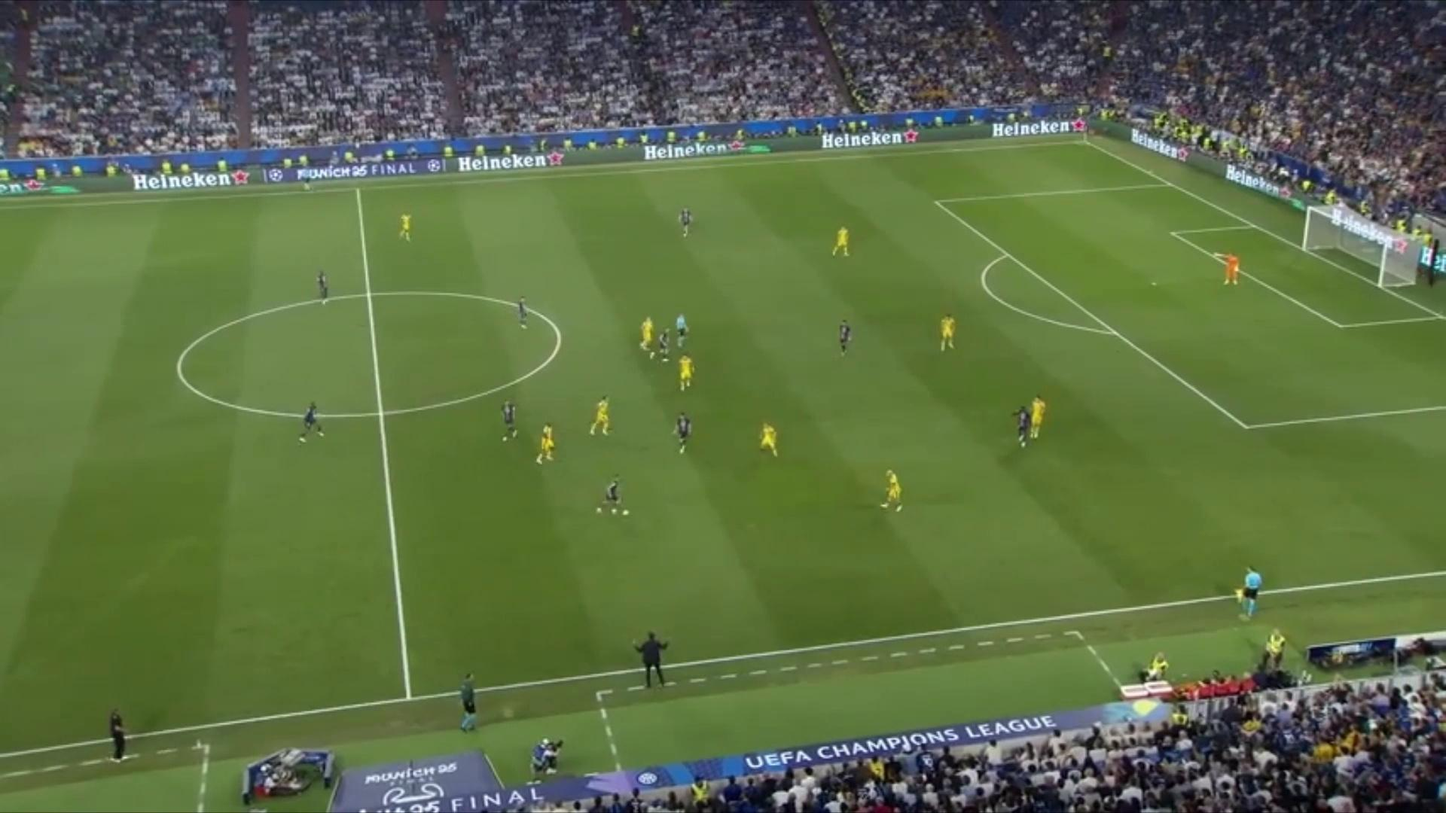ball: (619, 509, 632, 518)
player_A: (294, 400, 326, 449), (495, 398, 521, 448), (670, 412, 699, 455), (1010, 401, 1033, 453), (600, 473, 620, 522), (653, 327, 674, 368), (312, 270, 333, 309), (837, 316, 852, 357), (516, 295, 530, 335), (677, 205, 693, 240)
player_B: (878, 464, 909, 516), (586, 391, 615, 440), (536, 416, 556, 468), (755, 420, 780, 461), (674, 350, 698, 392), (937, 311, 959, 354), (1030, 391, 1047, 443), (637, 314, 657, 358), (830, 224, 853, 262), (396, 208, 416, 244)
player_B_goal_keeper: (1211, 247, 1245, 290)
referee: (447, 669, 491, 737), (1233, 564, 1270, 621), (670, 310, 692, 353), (300, 165, 313, 194)
